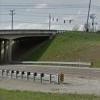Bridge: (1, 21, 55, 50)
